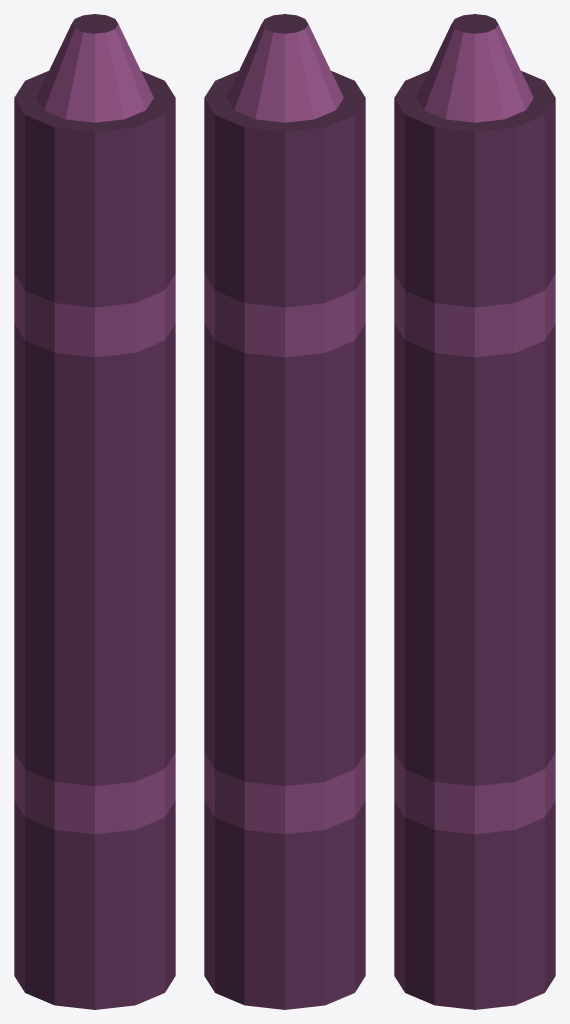
The model's file is Laumania_Whistler_Sample01.fbx.
The picture shows the model from 3 angles, left to right: view 1: azimuth 30°, elevation 25°; view 2: azimuth 150°, elevation 25°; view 3: azimuth 270°, elevation 25°; orthographic projection.
Visible parts, largest first — view 1: Laumania_Whistler_Sample01; view 2: Laumania_Whistler_Sample01; view 3: Laumania_Whistler_Sample01.
Part boxes in pixels (left/top/right/bottom): Laumania_Whistler_Sample01: left=14, top=14, right=175, bottom=1009; Laumania_Whistler_Sample01: left=204, top=14, right=365, bottom=1009; Laumania_Whistler_Sample01: left=394, top=14, right=555, bottom=1009.
Size of the model in its own units: 0.02 by 0.1301 by 0.02.
